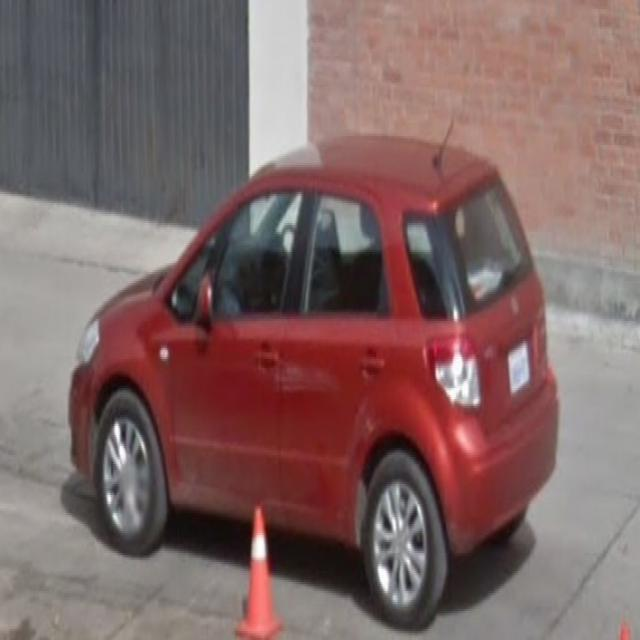car: (67, 122, 561, 629)
